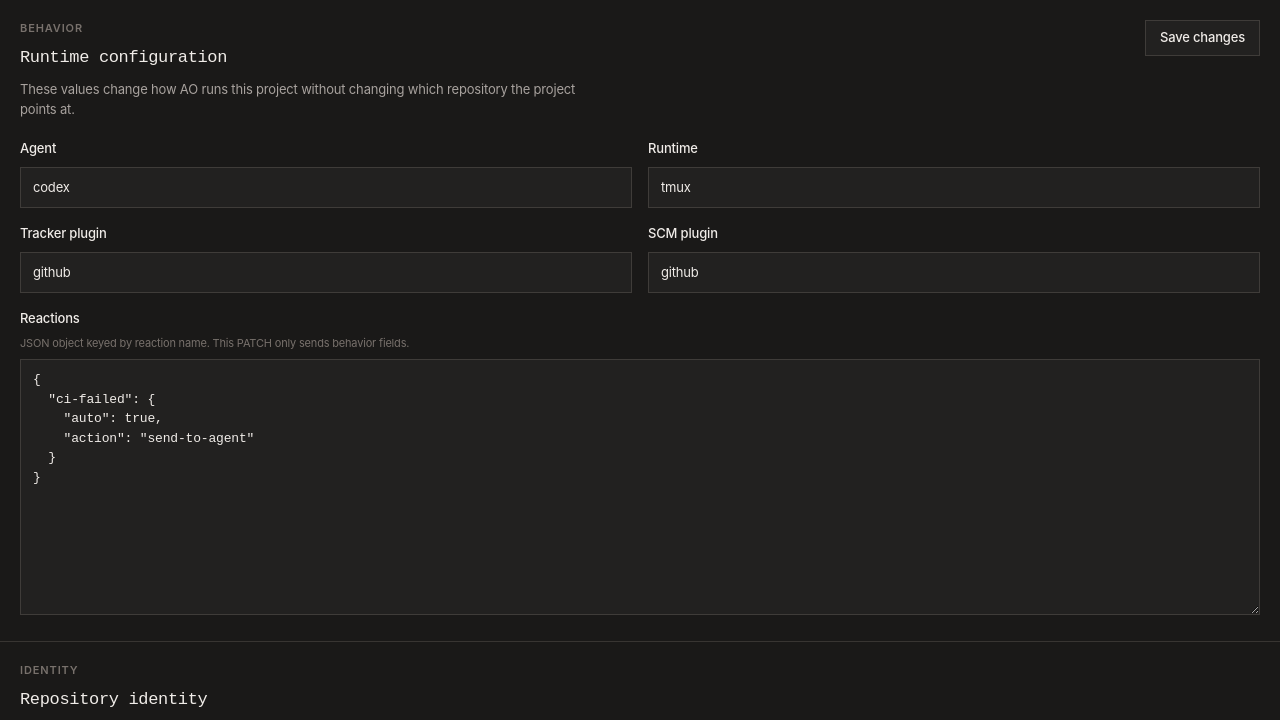
Test: ProjectSettingsForm › submits only behavior fields and keeps identity fields disabled
Step 1. Replace the text in the field labelled "Agent" with "claude-code" → (326, 187), box [20,166,632,208]
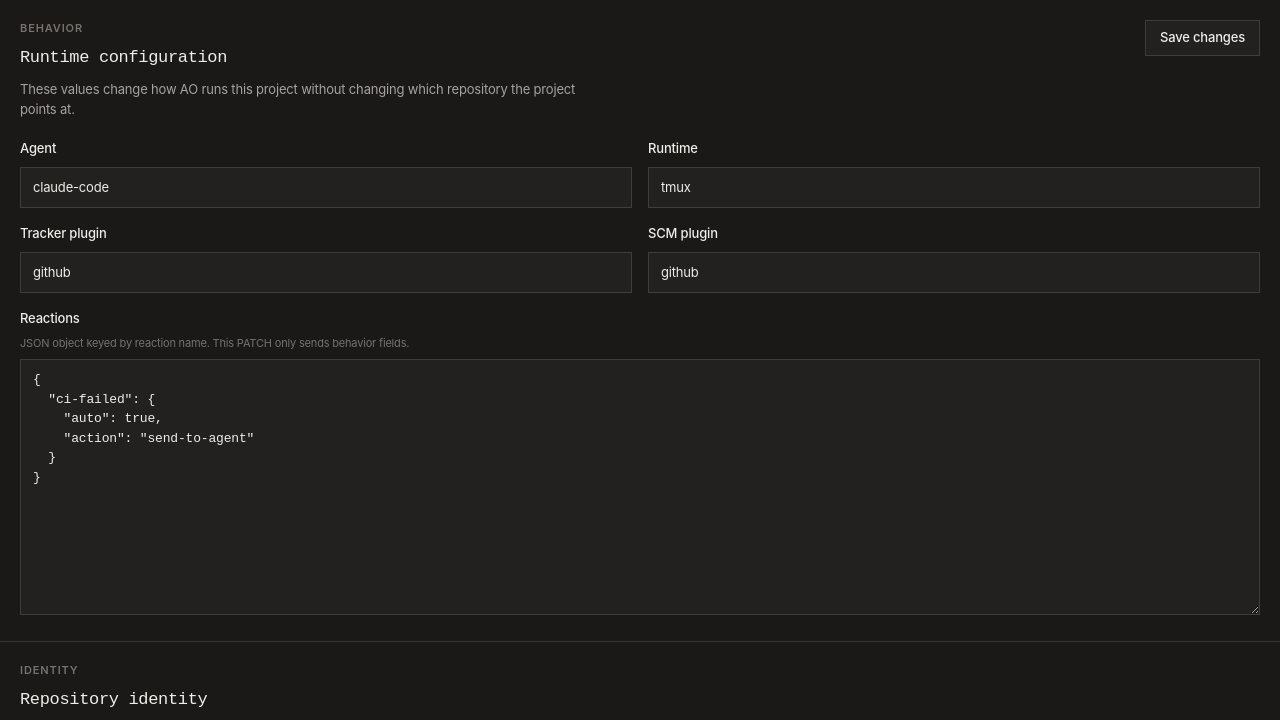
Step 2. Click the button "Save changes" → click(1202, 38), box [1145,20,1260,56]
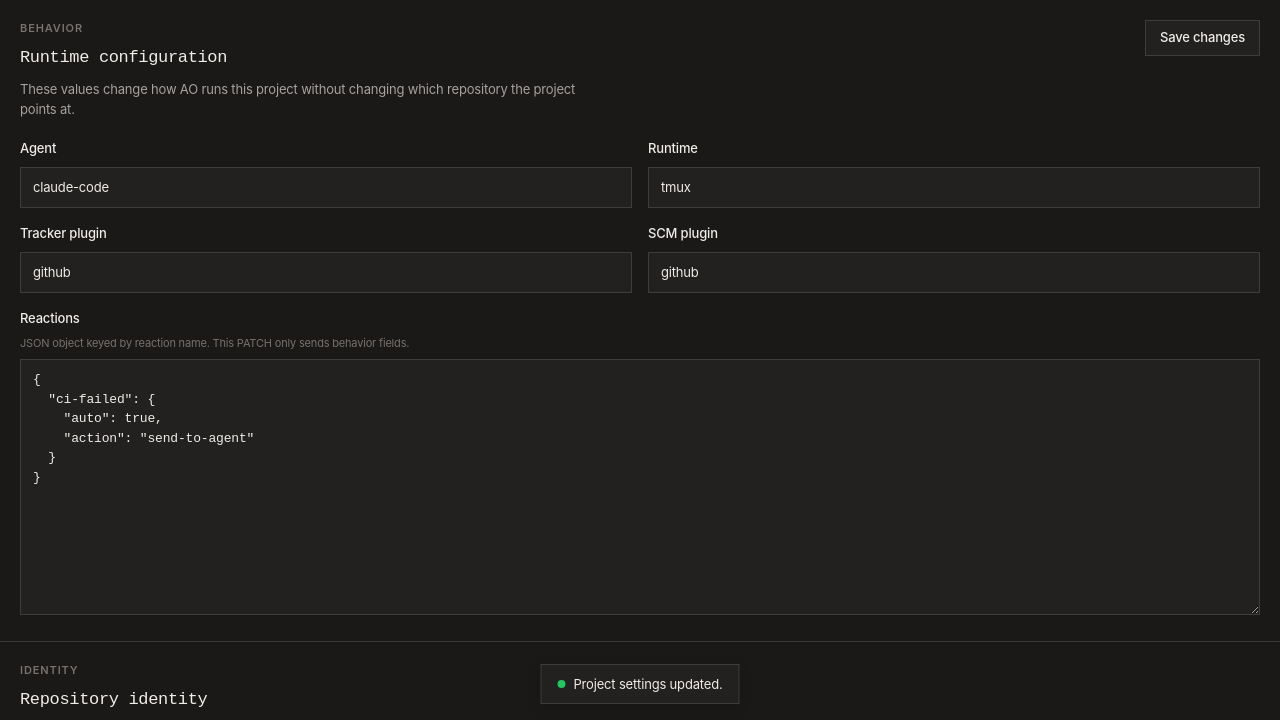
Now the text "Project settings updated." is shown, box [574,675,722,693]
